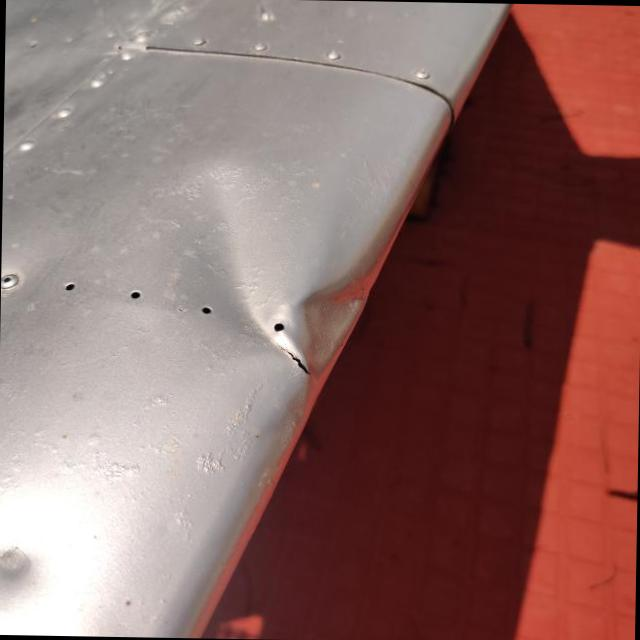Crack: (281, 349, 311, 374)
Dent: (170, 161, 419, 377), (0, 510, 55, 635)
